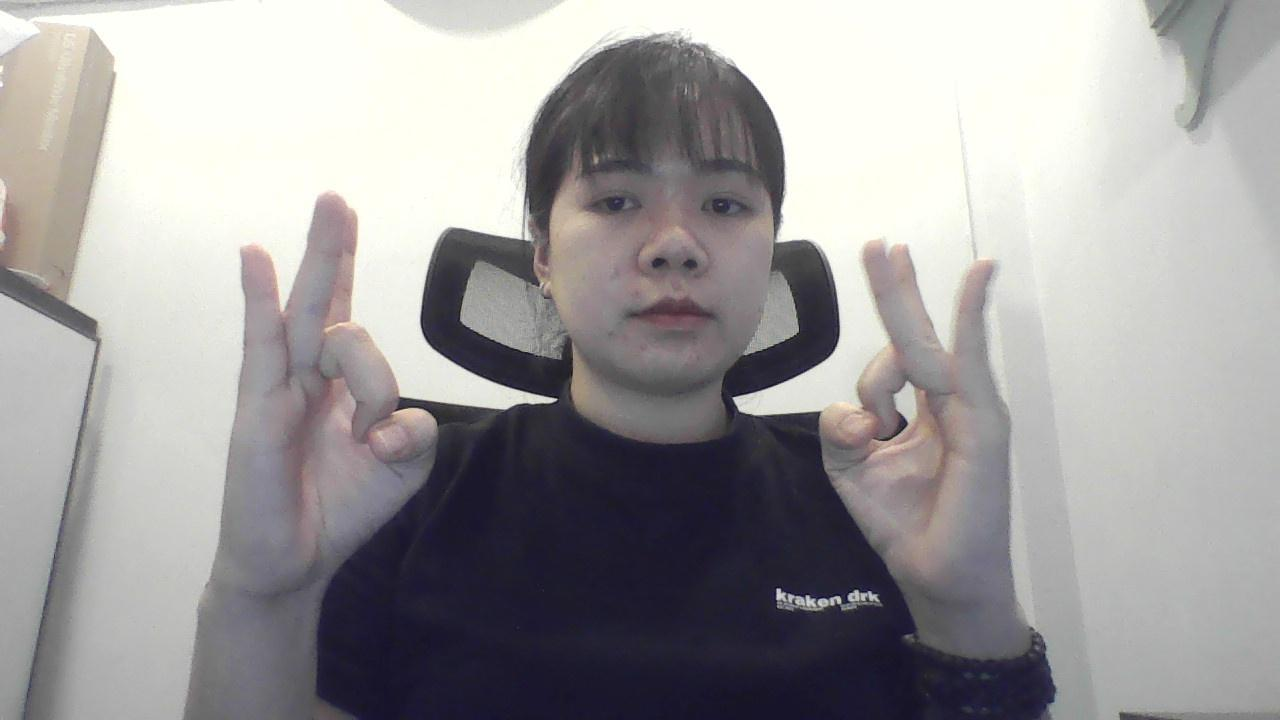H: (203, 176, 442, 618), (807, 217, 1026, 648)
